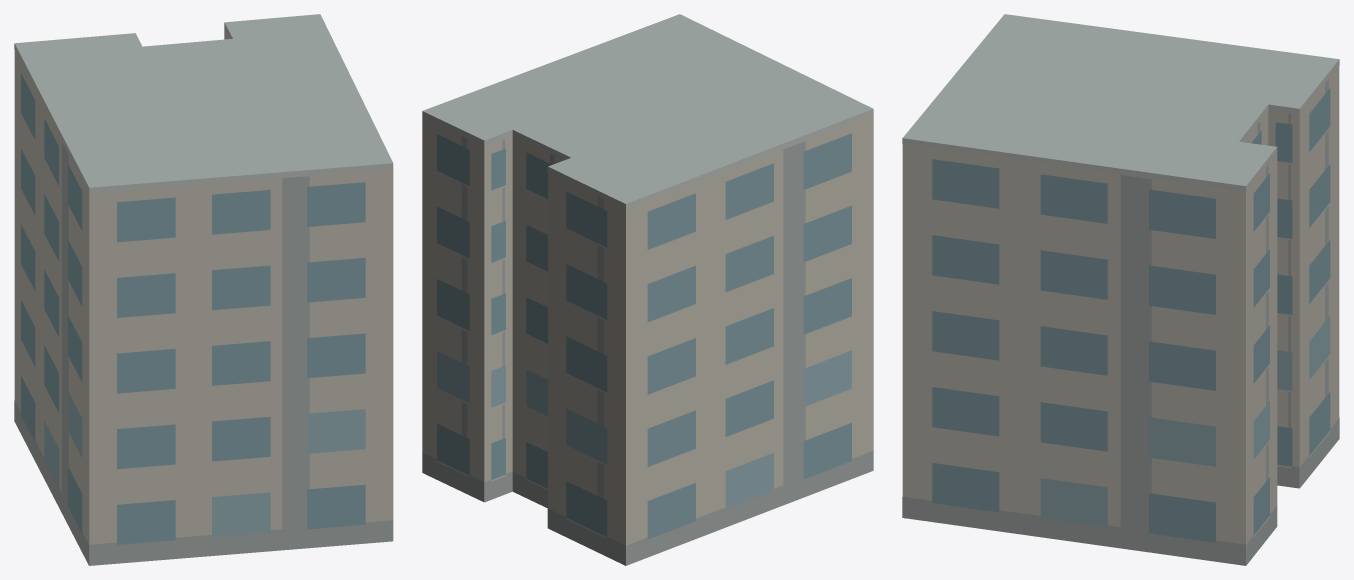
Rendered from survey-upis-32820642.glb.
3 renders of one model, left to right at view 1: azimuth 30°, elevation 25°; view 2: azimuth 150°, elevation 25°; view 3: azimuth 270°, elevation 25°, orthographic. The views are drawn at different scales.
Visible parts, largest first — view 1: survey-upis-32820642.tmp; view 2: survey-upis-32820642.tmp; view 3: survey-upis-32820642.tmp.
Part boxes in pixels (box(x1,y1,x2,y2)): survey-upis-32820642.tmp: box(14, 14, 393, 565); survey-upis-32820642.tmp: box(422, 14, 873, 565); survey-upis-32820642.tmp: box(902, 14, 1339, 565).
Size of the model in its own units: 14.5 by 14.9 by 15.55.
